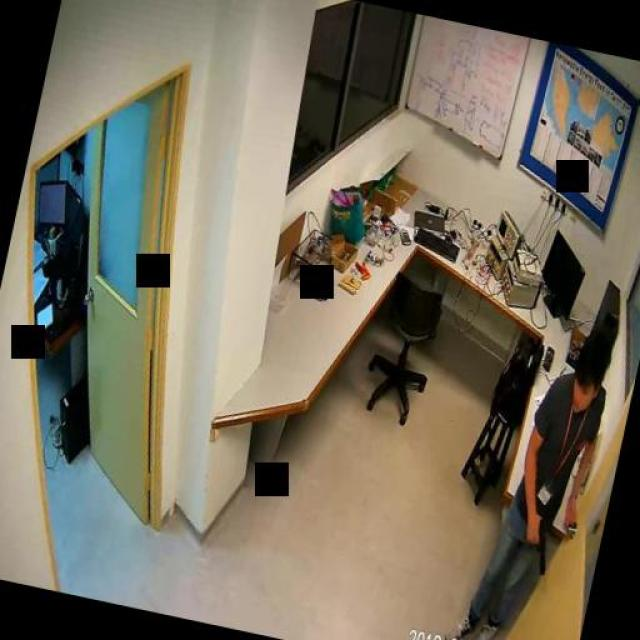gun: (514, 511, 555, 575)
